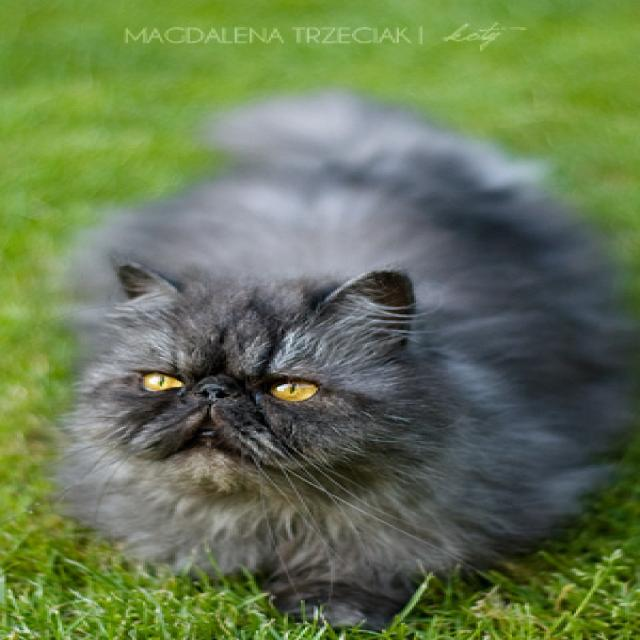Persian: (45, 91, 640, 630)
